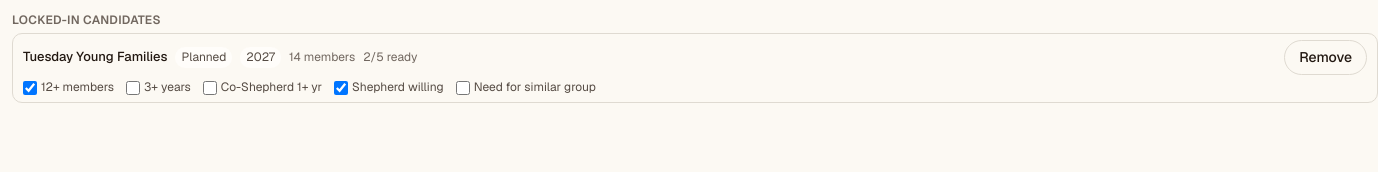
Test: PipelineLockedInCandidates — remove flow (#757) › surfaces an archive error
Click the button with aria-label "Remove Tuesday Young Families from the plan" at (1326, 58), box x1=1284 y1=40 x2=1367 y2=75
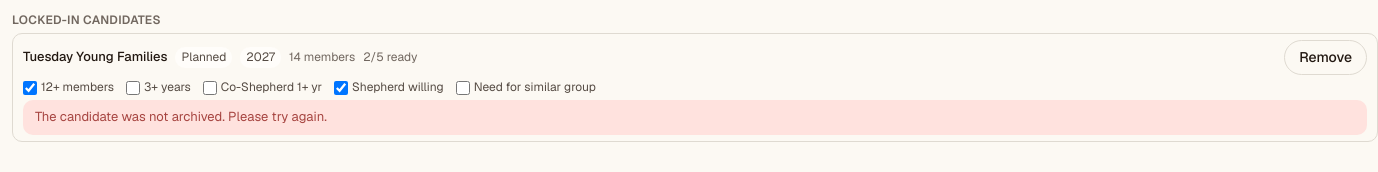
expect the message reads "The candidate was not archived. Please try again.": met, box x1=35 y1=108 x2=327 y2=125
